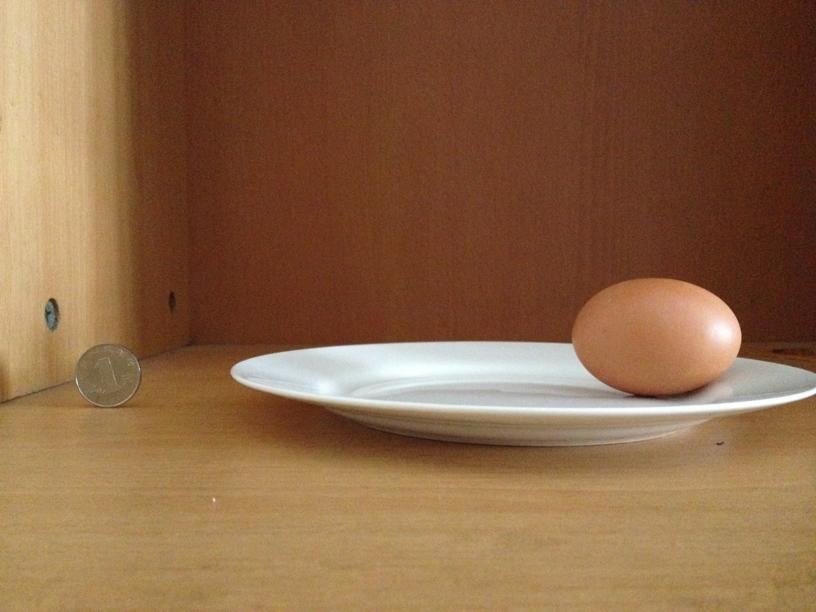coin: (71, 342, 140, 408)
egg: (566, 276, 742, 396)
